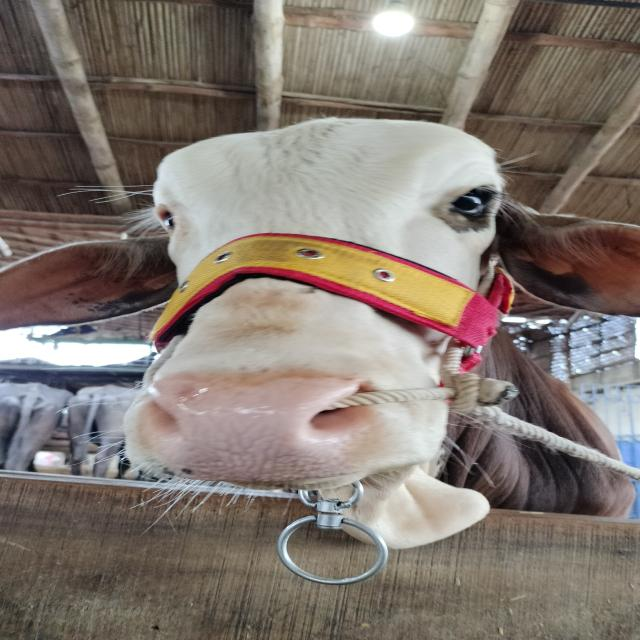muzzles: (127, 362, 390, 487)
